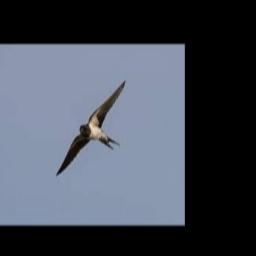Swallow: (56, 80, 127, 177)
